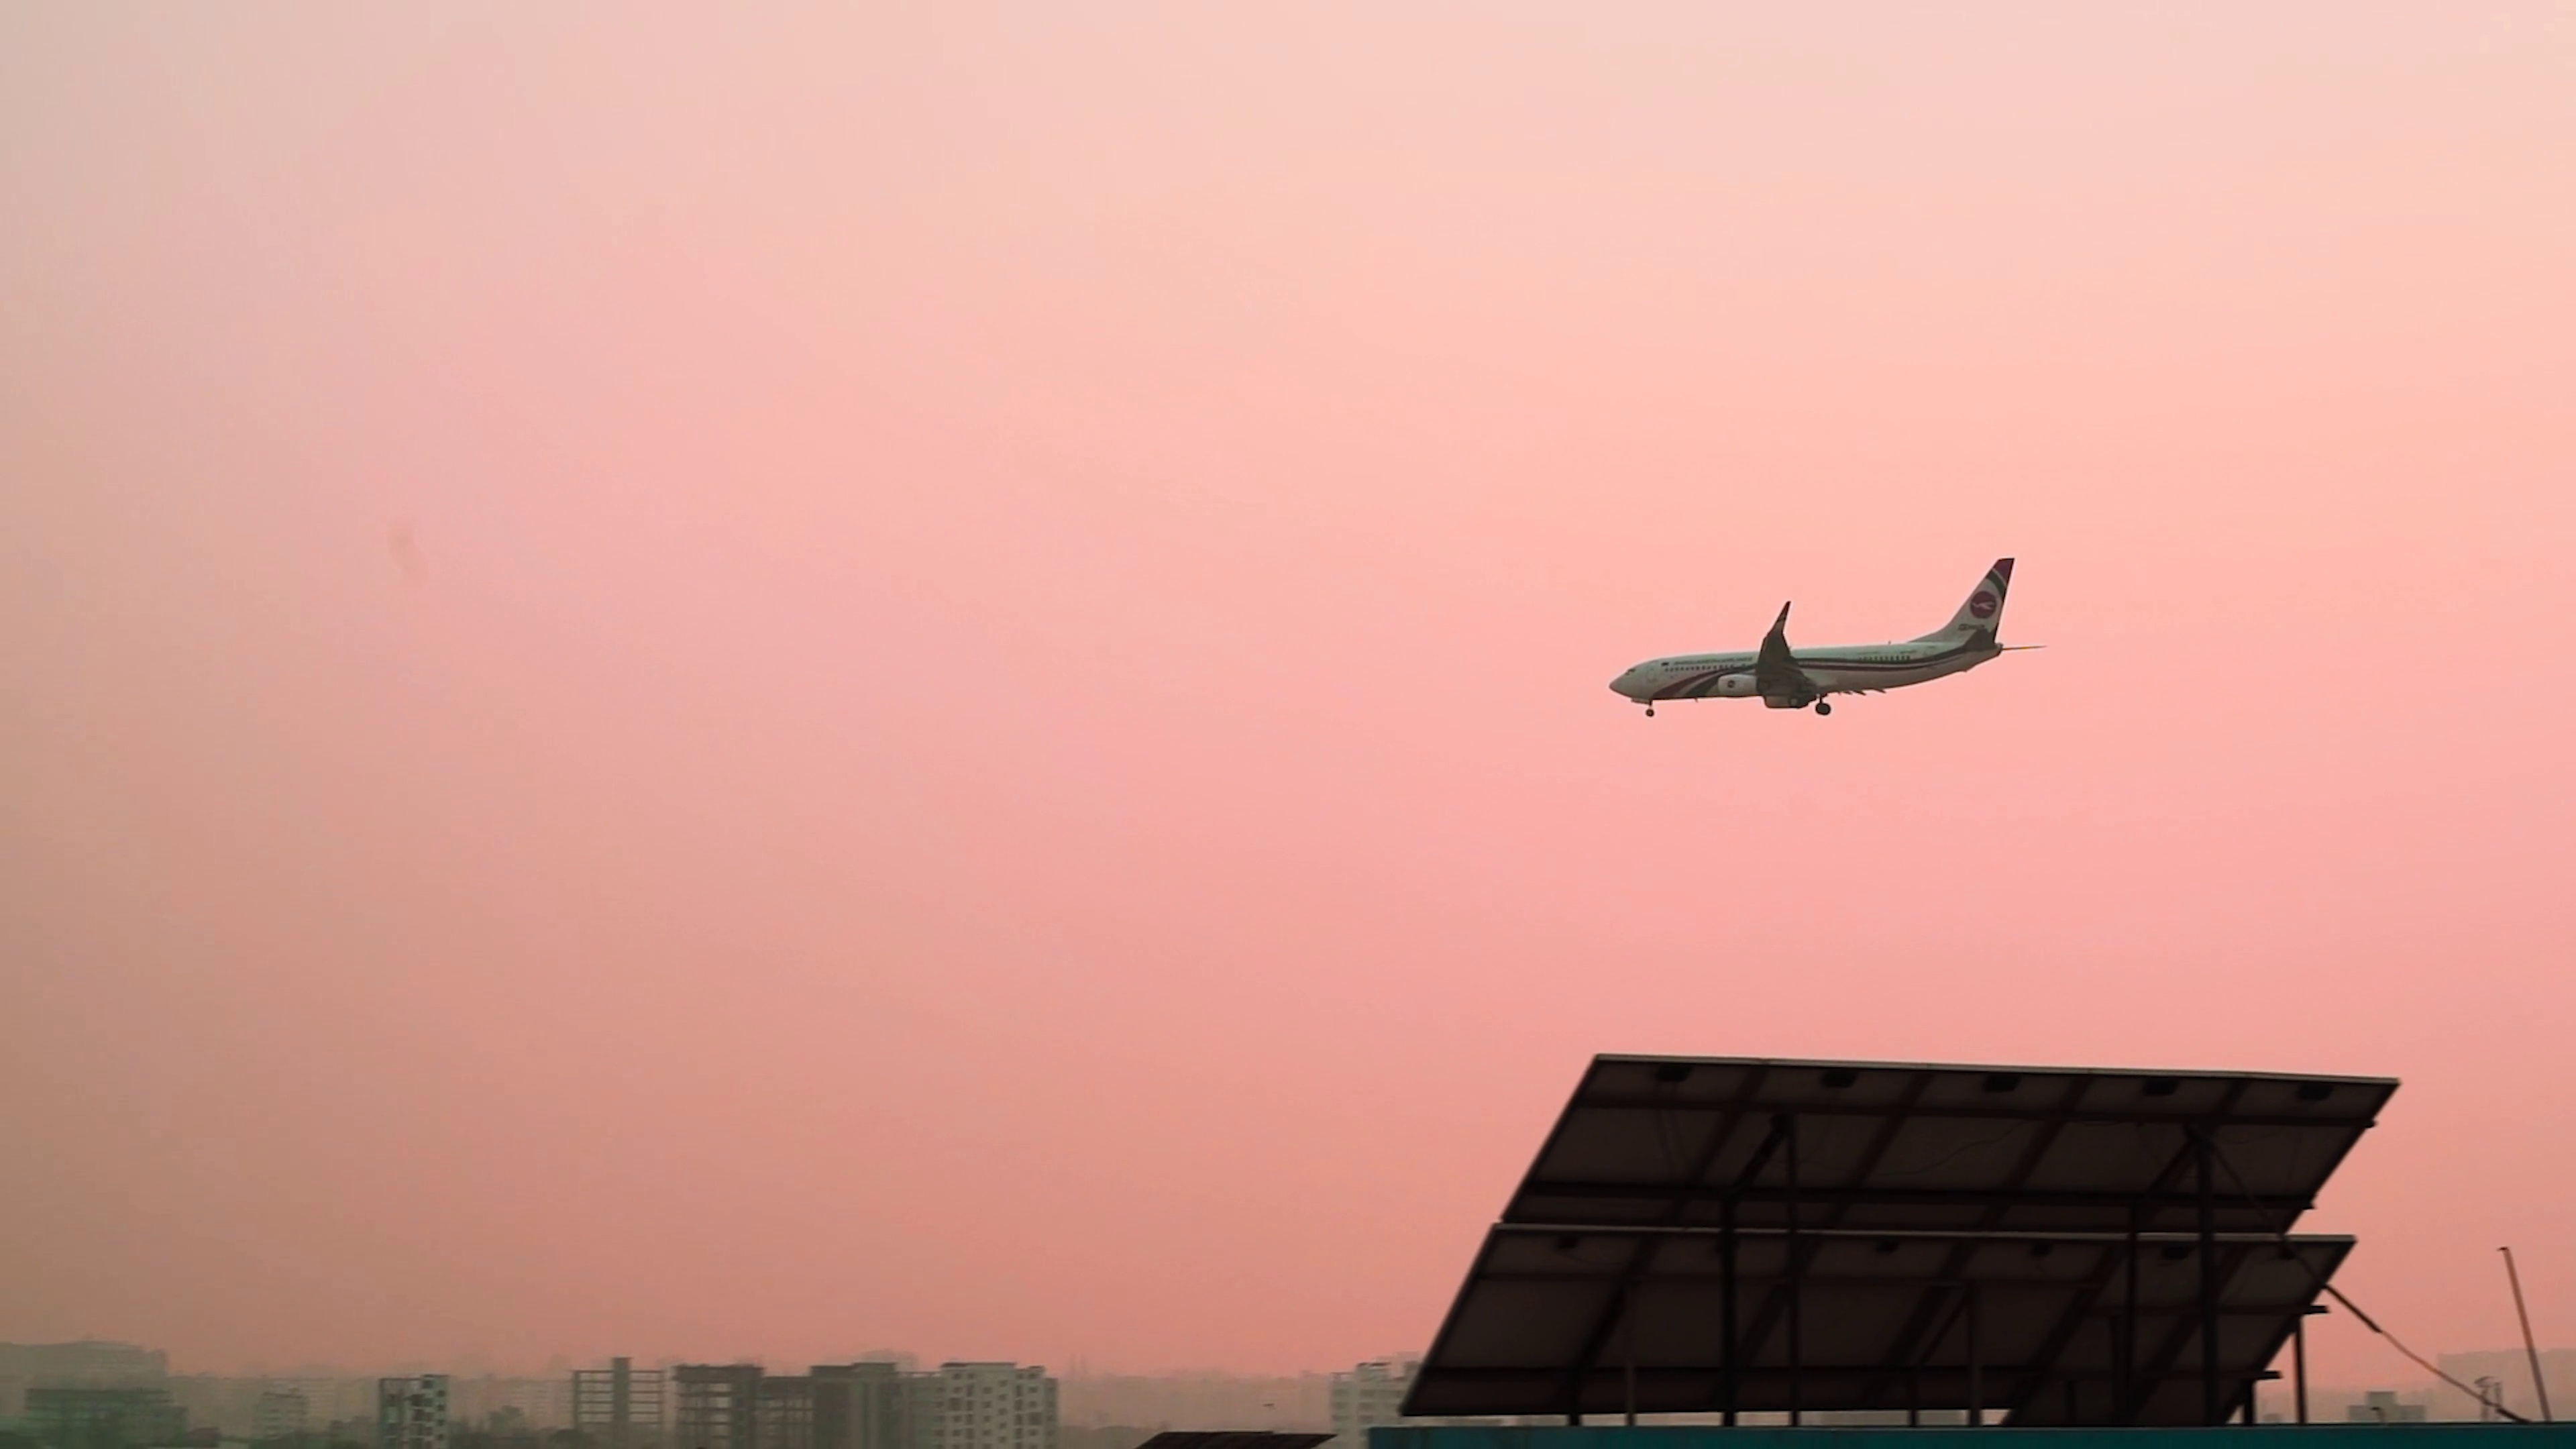plane: (1605, 556, 2051, 715)
